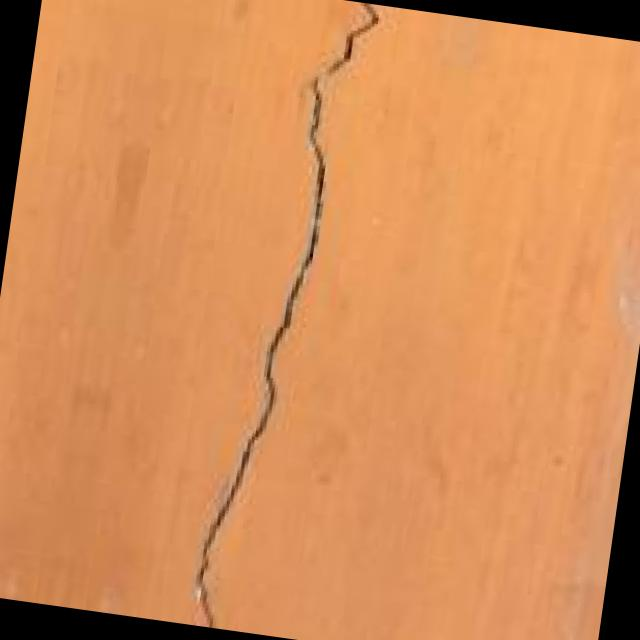crack: (158, 0, 433, 640)
